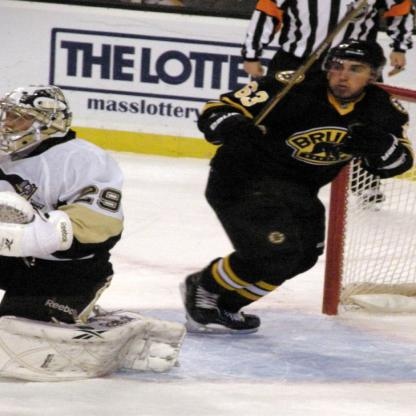Helmet: (2, 87, 74, 150), (324, 38, 390, 104)
